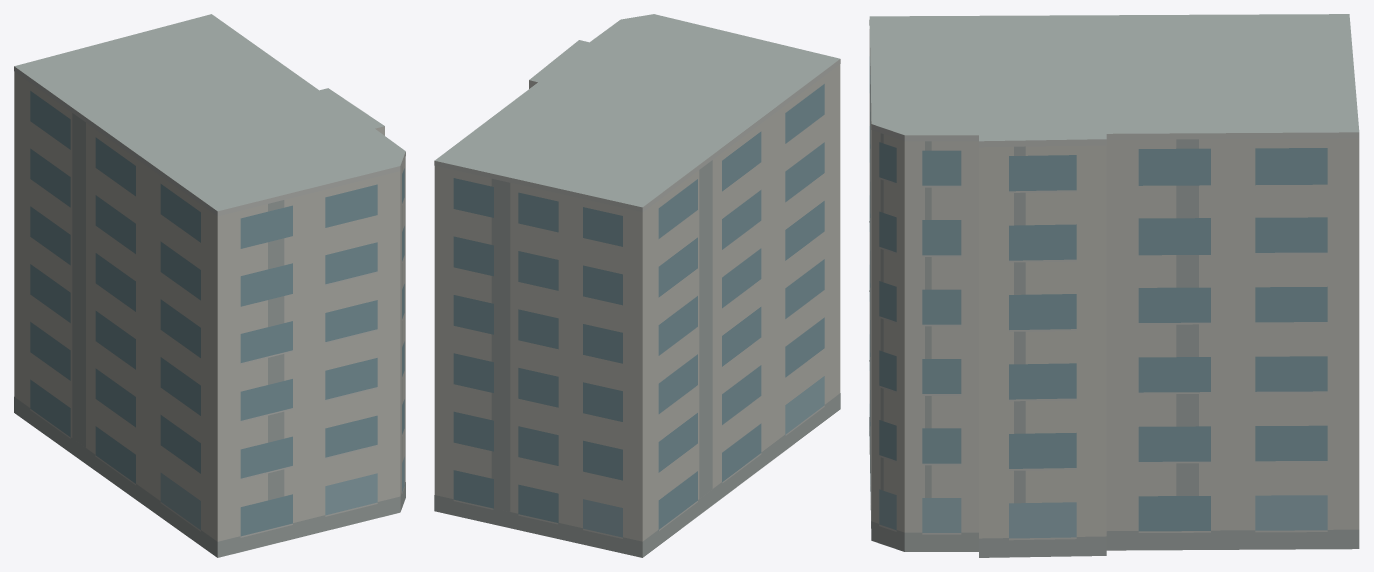
Rendered from survey-upis-32907760.glb.
3 renders of one model, left to right at view 1: azimuth 30°, elevation 25°; view 2: azimuth 150°, elevation 25°; view 3: azimuth 270°, elevation 25°, orthographic. The views are drawn at different scales.
Parts seen in each view (by area): view 1: survey-upis-32907760.tmp; view 2: survey-upis-32907760.tmp; view 3: survey-upis-32907760.tmp.
Part boxes in pixels (x1,y1,x2,y2): survey-upis-32907760.tmp: (14,14,405,557); survey-upis-32907760.tmp: (434,14,840,557); survey-upis-32907760.tmp: (869,14,1359,557).
Size of the model in its own units: 11.07 by 16.9 by 18.02.
